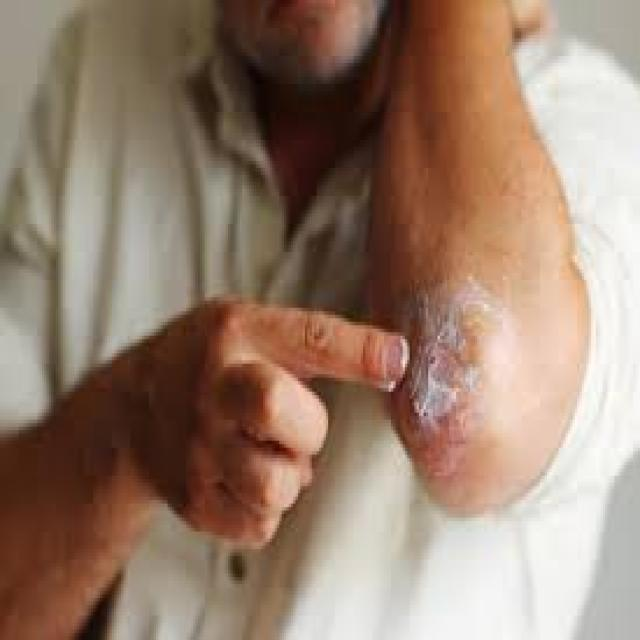Eczema: (388, 272, 522, 453)
